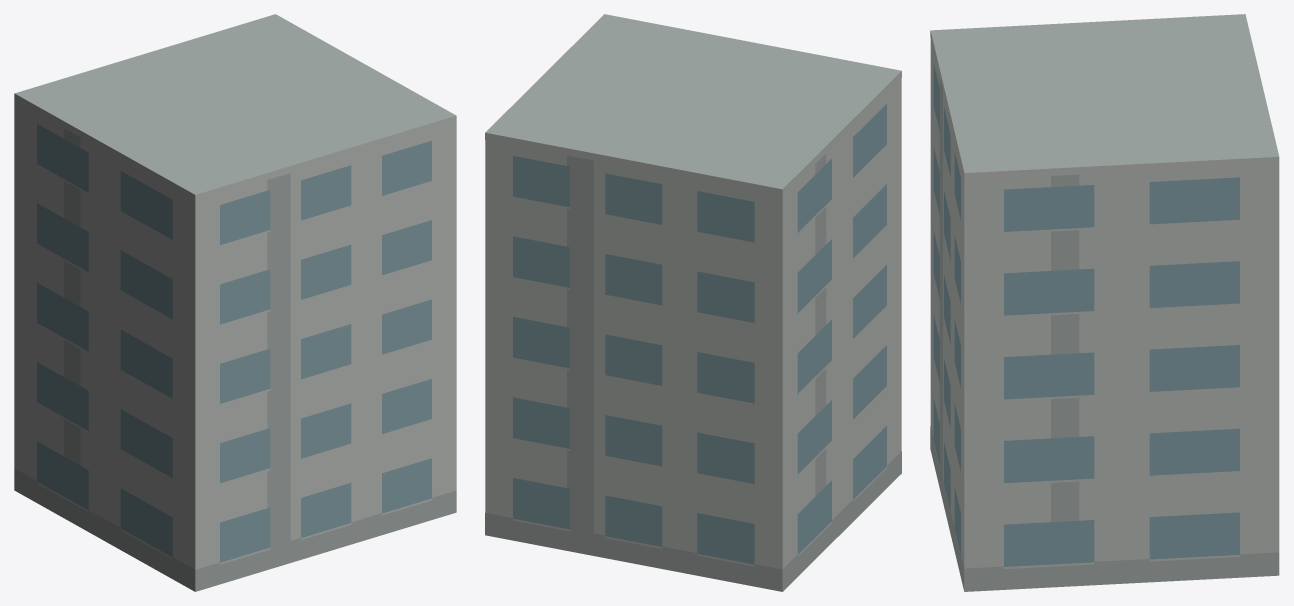
The model's file is survey-upis-32595003.glb.
3 renders of one model, left to right at view 1: azimuth 30°, elevation 25°; view 2: azimuth 150°, elevation 25°; view 3: azimuth 270°, elevation 25°, orthographic. The views are drawn at different scales.
Parts seen in each view (by area): view 1: survey-upis-32595003.tmp; view 2: survey-upis-32595003.tmp; view 3: survey-upis-32595003.tmp.
Boxes of the visible parts, x1=… form: survey-upis-32595003.tmp: x1=14, y1=14, x2=456, y2=591; survey-upis-32595003.tmp: x1=485, y1=14, x2=901, y2=591; survey-upis-32595003.tmp: x1=930, y1=14, x2=1279, y2=591.
Bounding box in the file's own units: 11.13 × 13.65 × 10.31.
